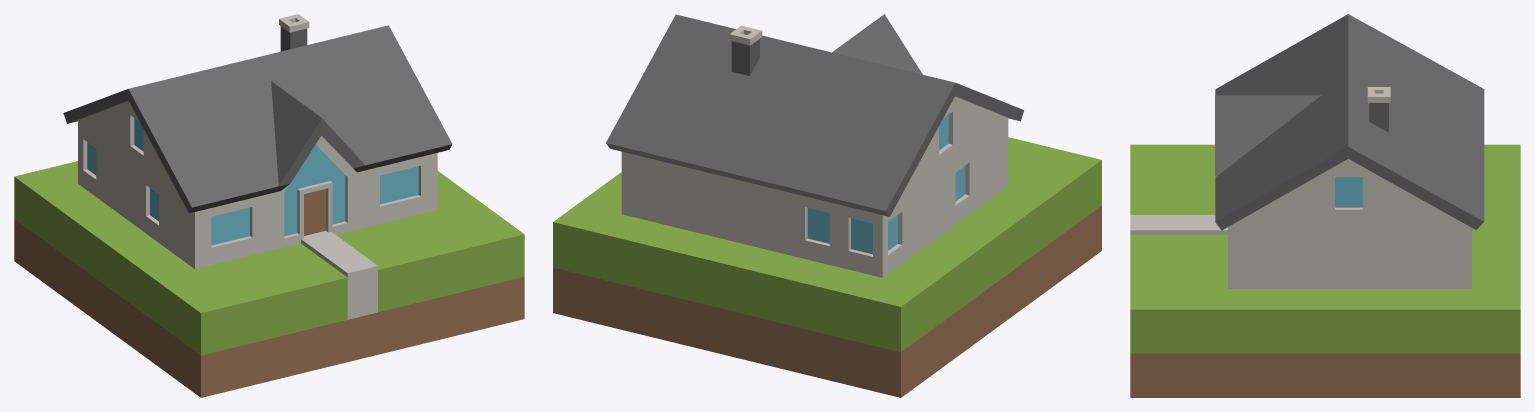
The model's file is house-mid.obj.
3 views of the same model, side by side, from view 1: azimuth 30°, elevation 25°; view 2: azimuth 150°, elevation 25°; view 3: azimuth 270°, elevation 25° (orthographic). The views are drawn at different scales.
Parts seen in each view (by area): view 1: house-mid_Cube.007; view 2: house-mid_Cube.007; view 3: house-mid_Cube.007.
Boxes of the visible parts, x1=… form: house-mid_Cube.007: x1=14, y1=14, x2=524, y2=397; house-mid_Cube.007: x1=553, y1=14, x2=1101, y2=397; house-mid_Cube.007: x1=1130, y1=14, x2=1520, y2=397.
Size of the model in its own units: 8 by 5.64 by 8.
Materials: 1 (1 with a texture image).
